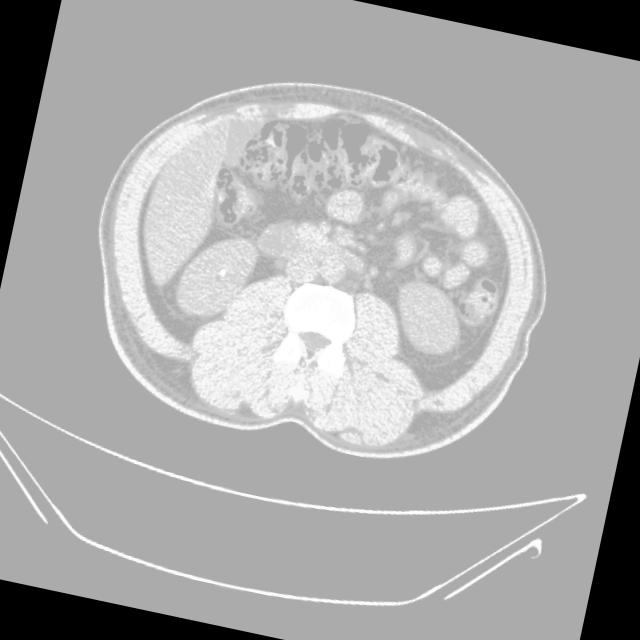STONE: (167, 96, 529, 327)
